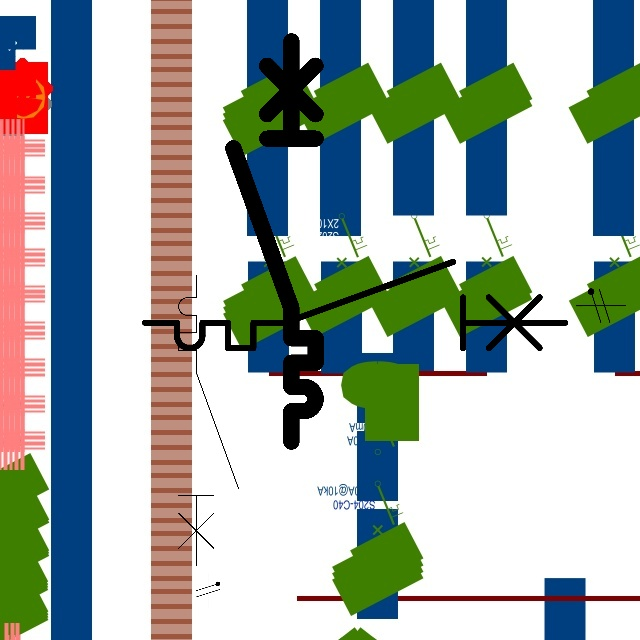interruptor_termomagnetico: (134, 251, 575, 359), (223, 31, 326, 452), (171, 268, 245, 573)
